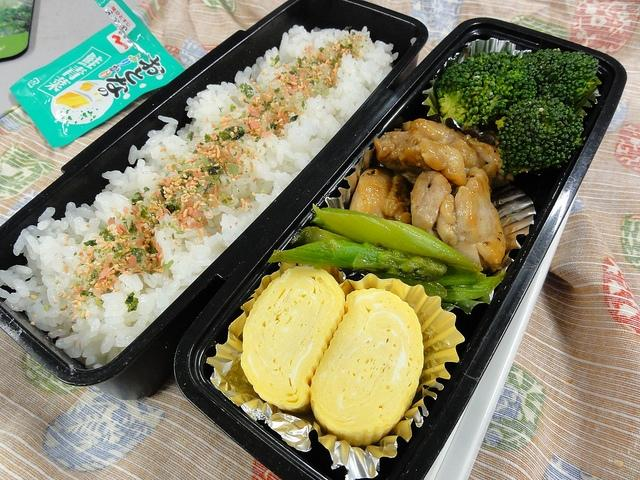broccoli: (438, 50, 544, 129), (495, 92, 586, 178), (520, 49, 598, 106)
